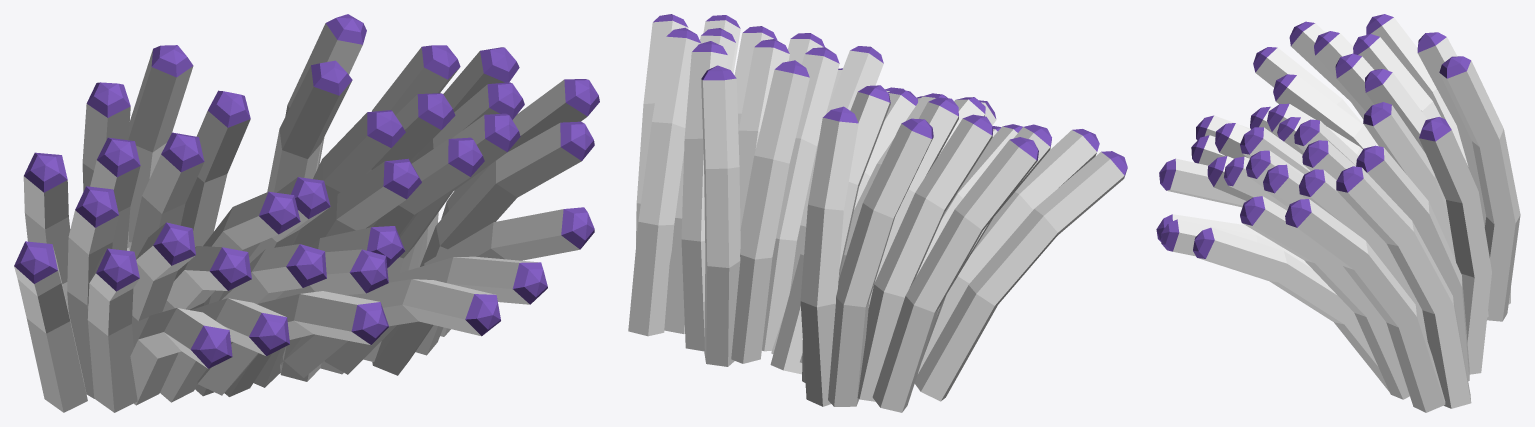
File: Coral_031.glb
3 renders of one model, left to right at view 1: azimuth 30°, elevation 25°; view 2: azimuth 150°, elevation 25°; view 3: azimuth 270°, elevation 25°, orthographic. The views are drawn at different scales.
Parts seen in each view (by area): view 1: Coral_031; view 2: Coral_031; view 3: Coral_031.
Part boxes in pixels (left/top/right/bottom): Coral_031: left=14, top=14, right=599, bottom=412; Coral_031: left=628, top=14, right=1127, bottom=412; Coral_031: left=1156, top=14, right=1520, bottom=412.
Size of the model in its own units: 0.9899 by 0.5627 by 0.6973.
1 material, 1 textured.
